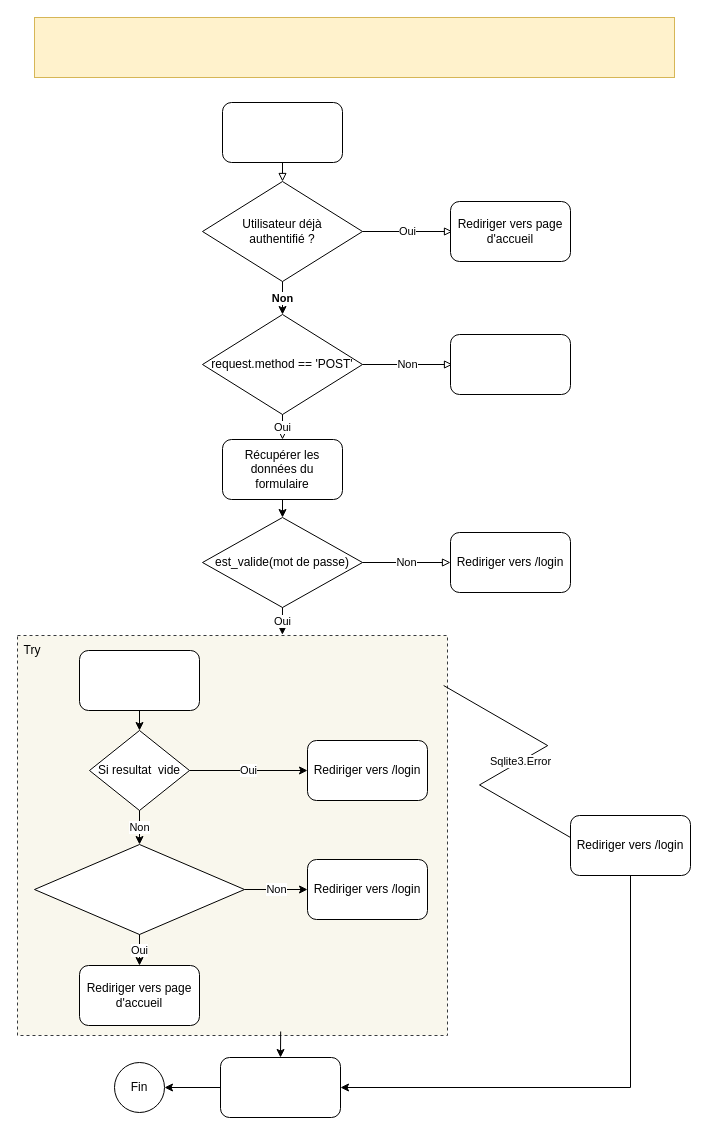
This 708x1135 diagram has some shape labels left out. The shapes that lost their labels are listed below. From the top down, each one's centre as x and y in pixels, then its label:
[354,47]: Authentification d'un utilisateur
[282,132]: Arrivée sur /login
[510,364]: Afficher le formulaire de login
[139,680]: Rechercher données utilisateur dans la table des utilisateurs
[139,889]: mot de passe formulaire == mot de passe utilisateur en DB
[280,1087]: Fermer connexion DB
